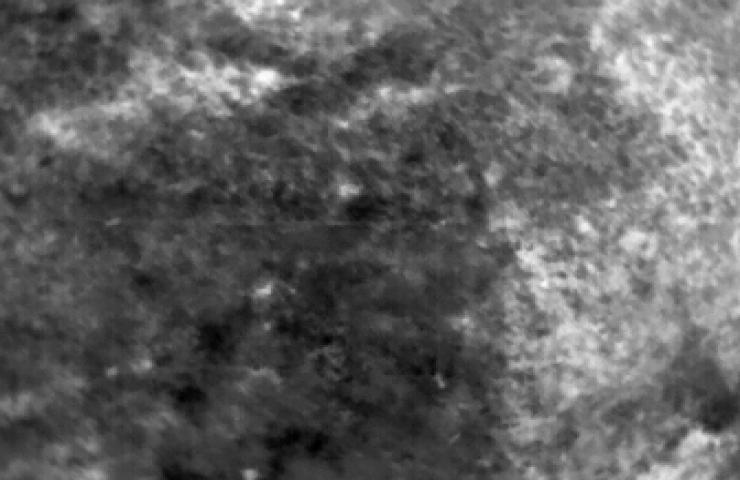landmines: (249, 276, 282, 302)
